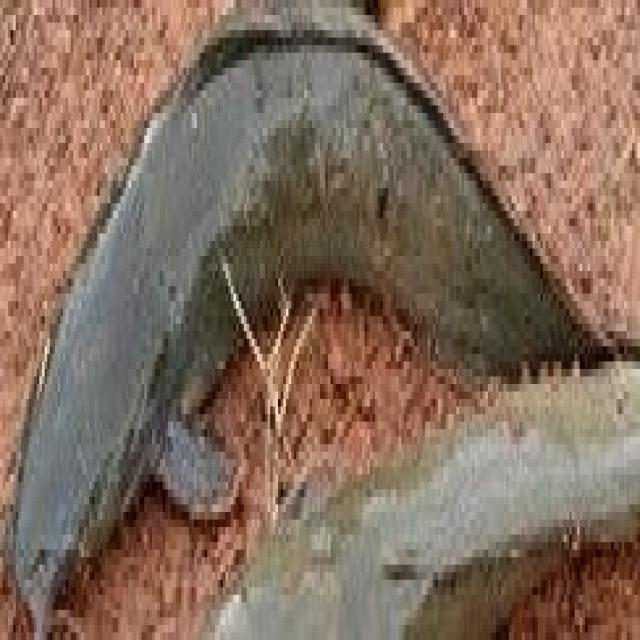Catfish: (5, 6, 640, 632)
